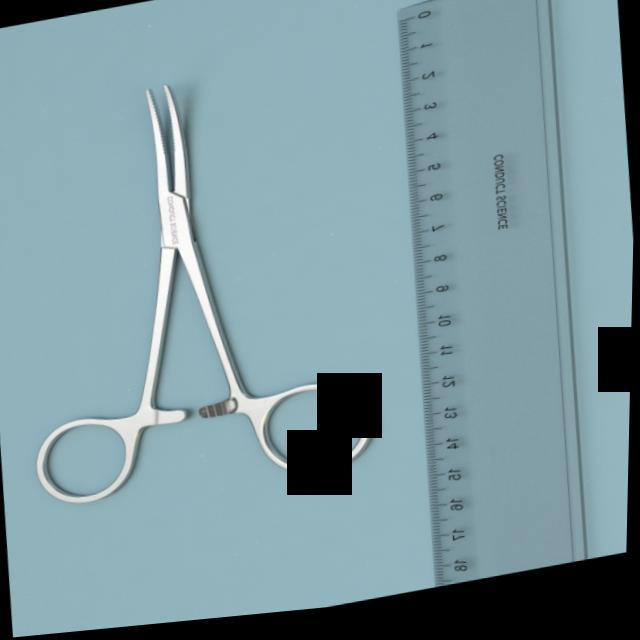Artery Forceps: (0, 44, 397, 534)
